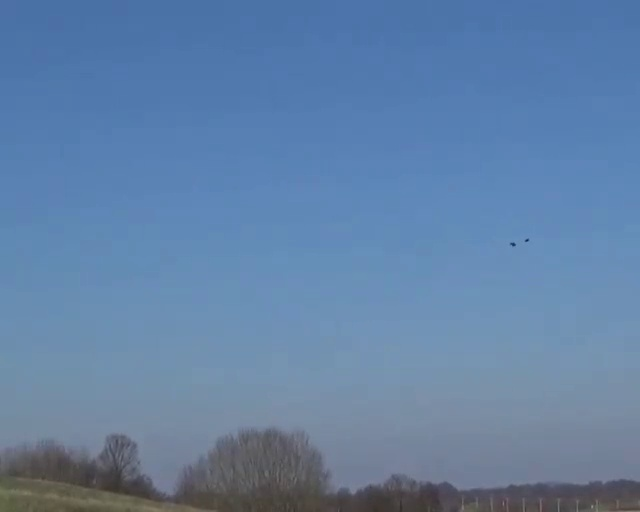BIRD: (510, 238, 524, 247)
